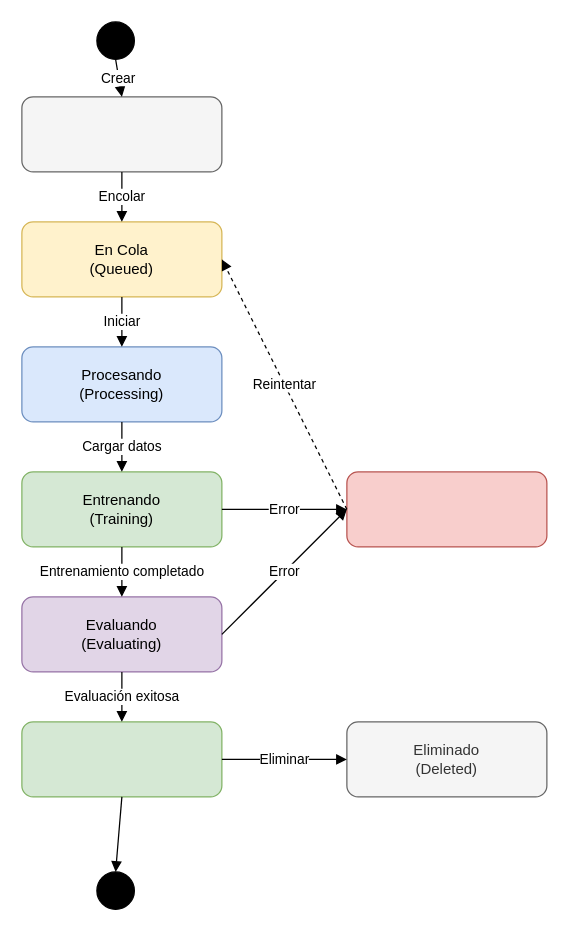
Some shapes in this 569 by 931 pixel diagram are drawn without their labels. The box of each missing label's shape, as (x1, y1, x2, y2) in pixels:
Entrenado (Trained): (21, 721, 222, 797)
Fallido (Failed): (346, 471, 547, 547)
Pendiente (Pending): (21, 96, 222, 172)
